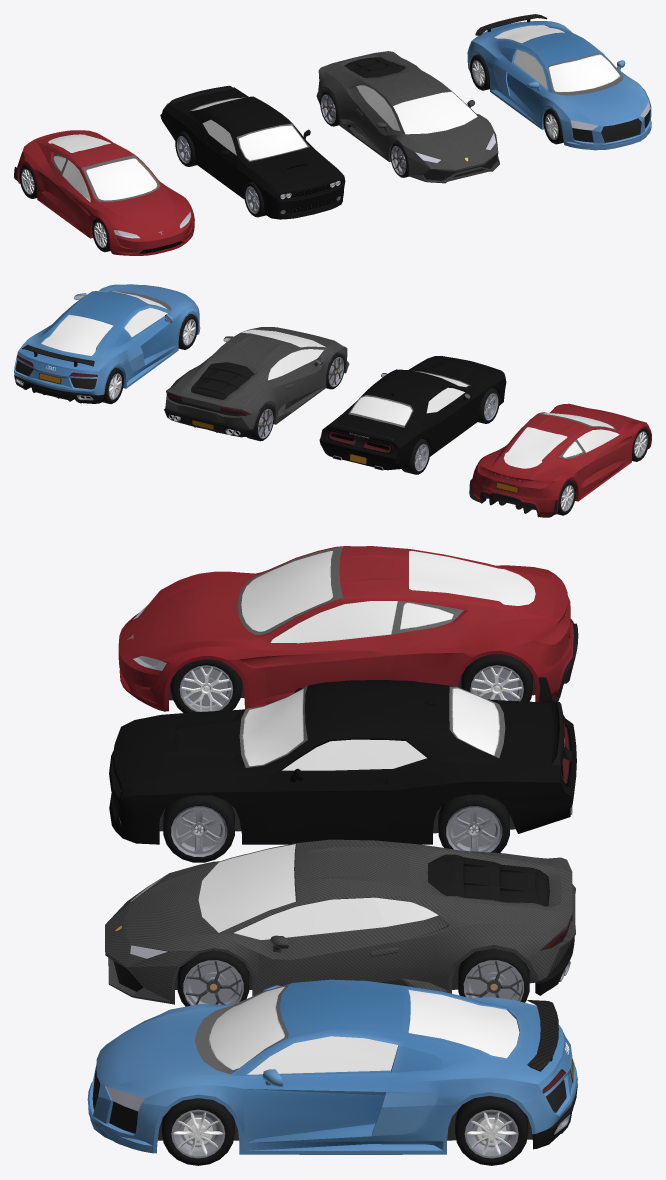
The model's file is lowpoly_cars.glb.
3 renders of one model, top to bottom at view 1: azimuth 30°, elevation 25°; view 2: azimuth 150°, elevation 25°; view 3: azimuth 270°, elevation 25°, orthographic. The views are drawn at different scales.
Visible parts, largest first — view 1: Audi, Lambo, Dodge, Tesla, DodgeTire.001, AudiTire.001, Huracan.005, TeslaTire.001; view 2: Audi, Lambo, Dodge, Tesla, DodgeTire.001, Huracan.005, AudiTire.001, TeslaTire.001; view 3: Audi, Dodge, Lambo, Tesla, AudiTire.001, DodgeTire.001, Huracan.005, TeslaTire.001.
Boxes of the visible parts, x1,y1,x2,y2 form: Audi: [467, 14, 651, 150]; Lambo: [316, 51, 499, 183]; Dodge: [160, 85, 345, 219]; Tesla: [14, 130, 194, 255]; DodgeTire.001: [175, 131, 265, 217]; AudiTire.001: [470, 54, 563, 144]; Huracan.005: [320, 90, 408, 177]; TeslaTire.001: [19, 164, 110, 252]; Audi: [14, 284, 200, 403]; Lambo: [164, 327, 349, 437]; Dodge: [319, 356, 506, 470]; Tesla: [469, 403, 651, 517]; DodgeTire.001: [401, 388, 499, 474]; Huracan.005: [247, 353, 344, 441]; AudiTire.001: [102, 314, 197, 403]; TeslaTire.001: [557, 427, 649, 515]; Audi: [87, 979, 577, 1154]; Dodge: [109, 680, 576, 844]; Lambo: [105, 839, 575, 1004]; Tesla: [118, 546, 578, 711]; AudiTire.001: [161, 1096, 528, 1165]; DodgeTire.001: [163, 794, 509, 862]; Huracan.005: [177, 948, 529, 1006]; TeslaTire.001: [170, 654, 532, 712].
Bounding box in the file's own units: 13.22 × 1.47 × 5.17.
Materials: 5 (5 with a texture image).
